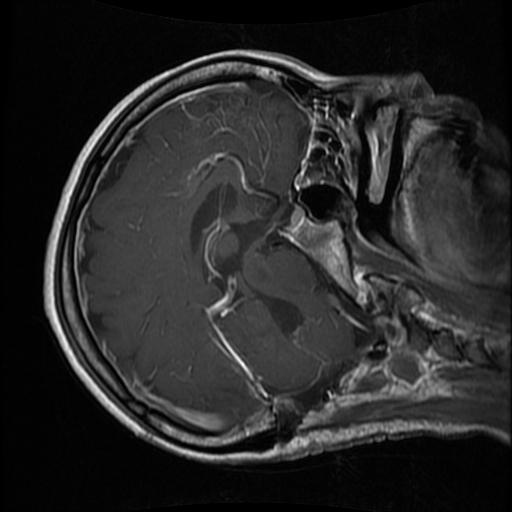glioma: (189, 181, 307, 340)
